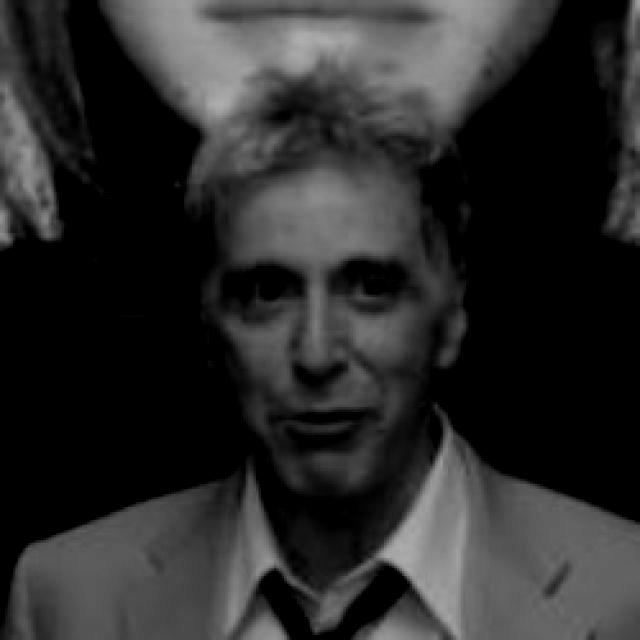real: (205, 177, 442, 502), (219, 256, 411, 324)
